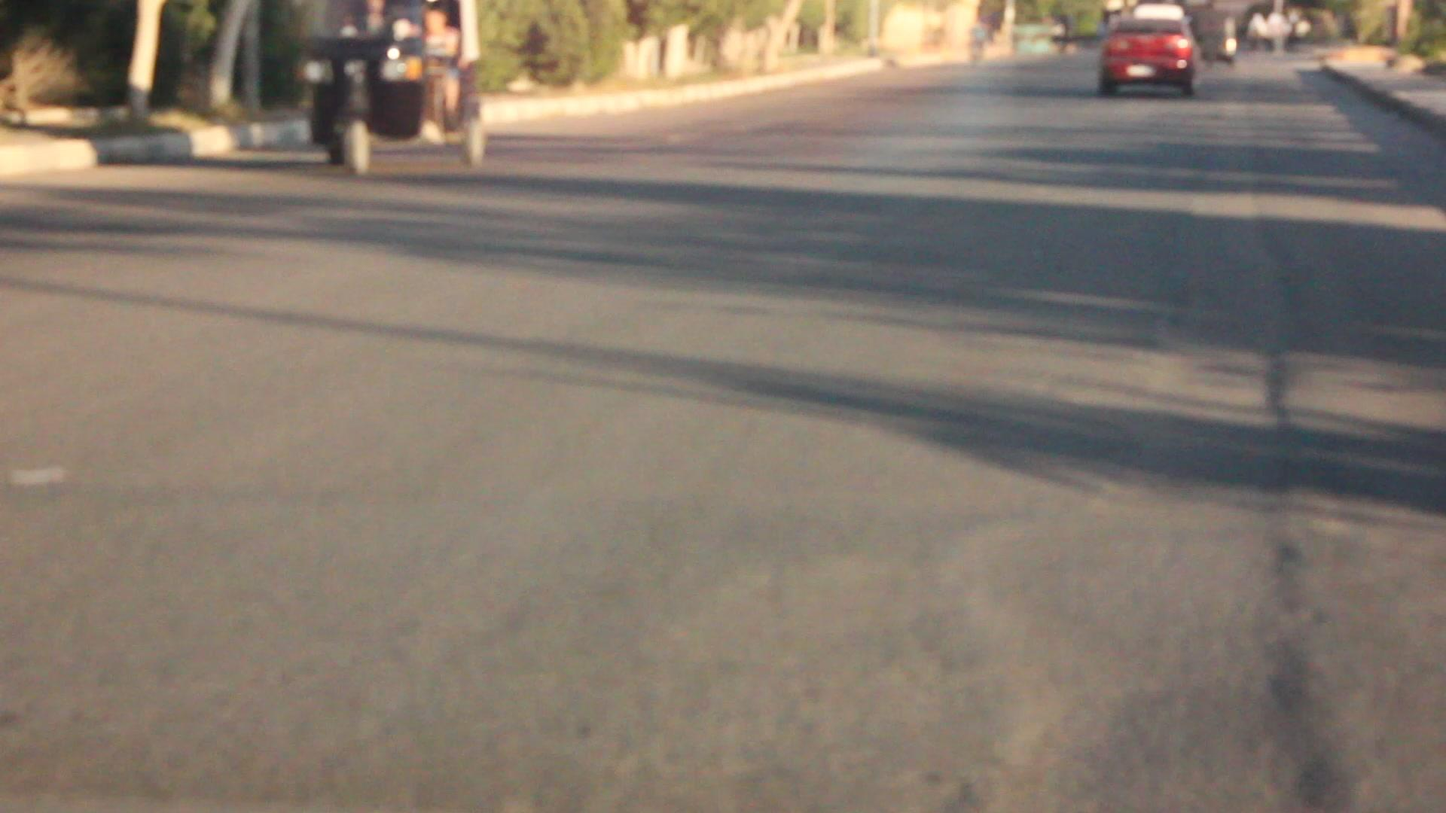Pothole: (985, 529, 1337, 813)
